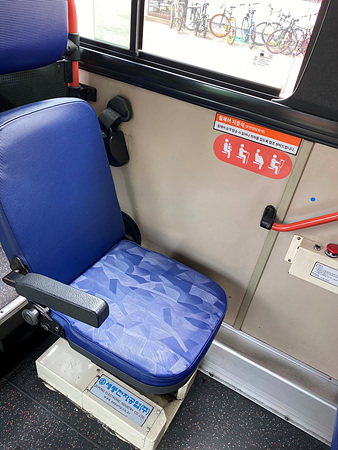seat: (2, 97, 228, 393)
